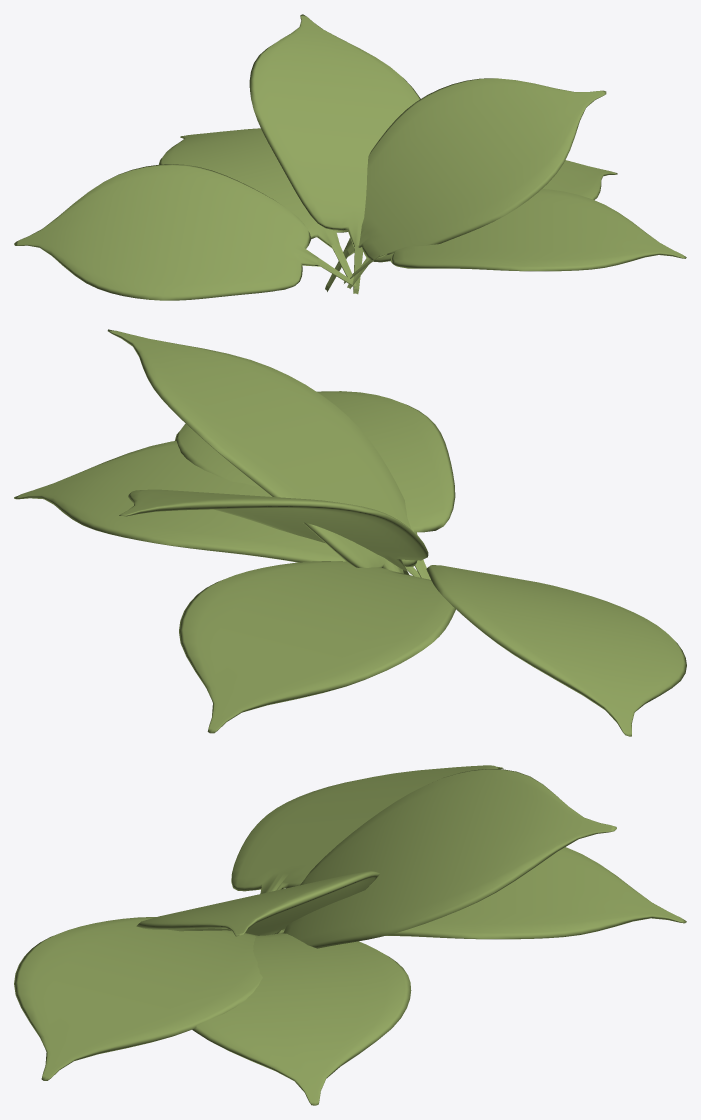
Rendered from single cluster of leaves.fbx.
The picture shows the model from 3 angles, top to bottom: view 1: azimuth 30°, elevation 25°; view 2: azimuth 150°, elevation 25°; view 3: azimuth 270°, elevation 25°; orthographic projection. The views are drawn at different scales.
Parts seen in each view (by area): view 1: pCube2, pCube5, pCube6, pCube4, pCube1, pCube3; view 2: pCube1, pCube5, pCube2, pCube3, pCube4, pCube6; view 3: pCube6, pCube4, pCube3, pCube1, pCube2, pCube5.
Part boxes in pixels (bbox=[...]): pCube2: bbox=[14, 164, 354, 300]; pCube5: bbox=[325, 78, 606, 291]; pCube6: bbox=[249, 14, 420, 294]; pCube4: bbox=[344, 189, 686, 283]; pCube1: bbox=[159, 128, 356, 286]; pCube3: bbox=[347, 160, 617, 288]; pCube1: bbox=[179, 561, 455, 733]; pCube5: bbox=[107, 329, 417, 573]; pCube2: bbox=[426, 565, 686, 736]; pCube3: bbox=[14, 441, 420, 577]; pCube4: bbox=[175, 391, 455, 579]; pCube6: bbox=[119, 489, 428, 574]; pCube6: bbox=[275, 769, 616, 948]; pCube4: bbox=[14, 917, 262, 1080]; pCube3: bbox=[192, 933, 411, 1105]; pCube1: bbox=[270, 847, 686, 939]; pCube2: bbox=[231, 765, 503, 893]; pCube5: bbox=[136, 871, 379, 936].
Bounding box in the file's own units: 8.86 × 2.69 × 7.6.
